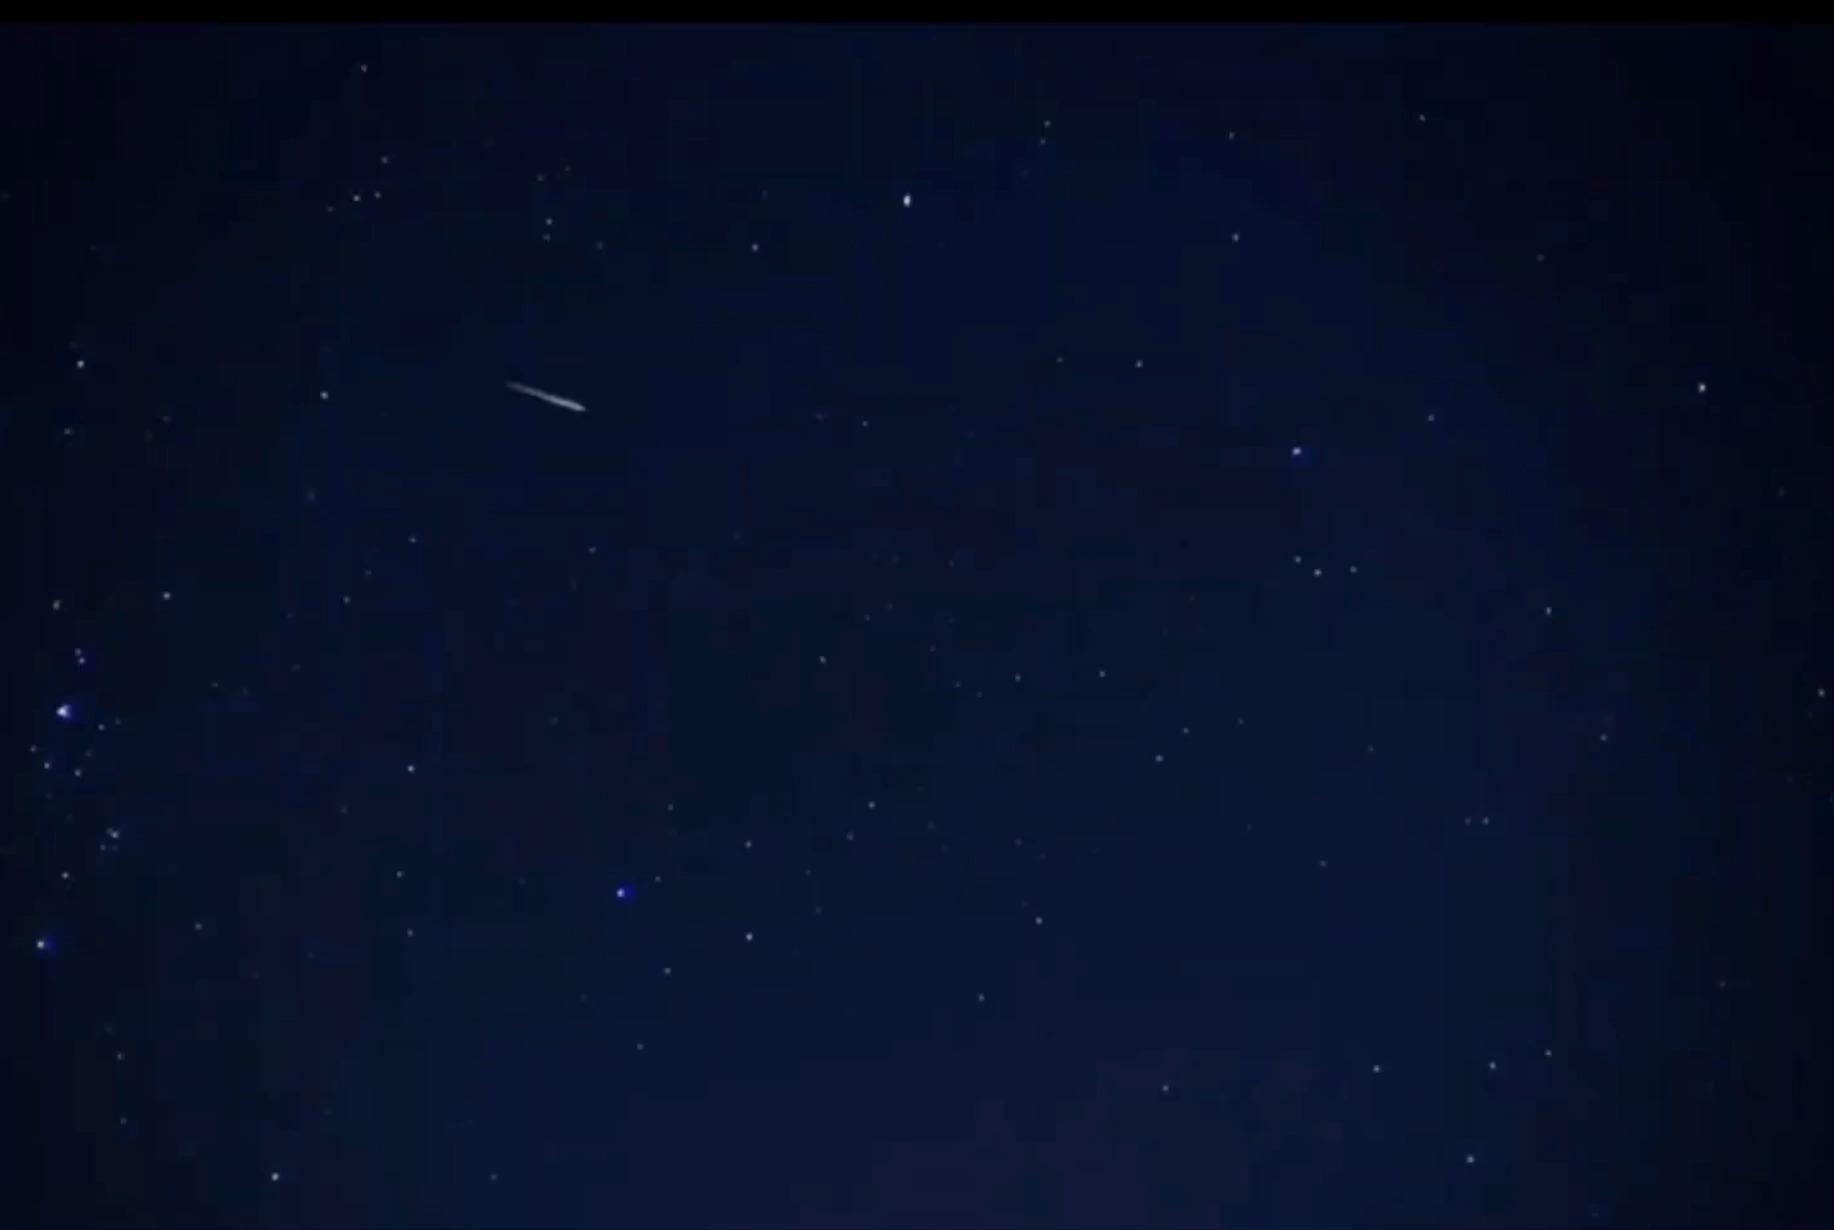meteorite: (448, 373, 652, 421)
